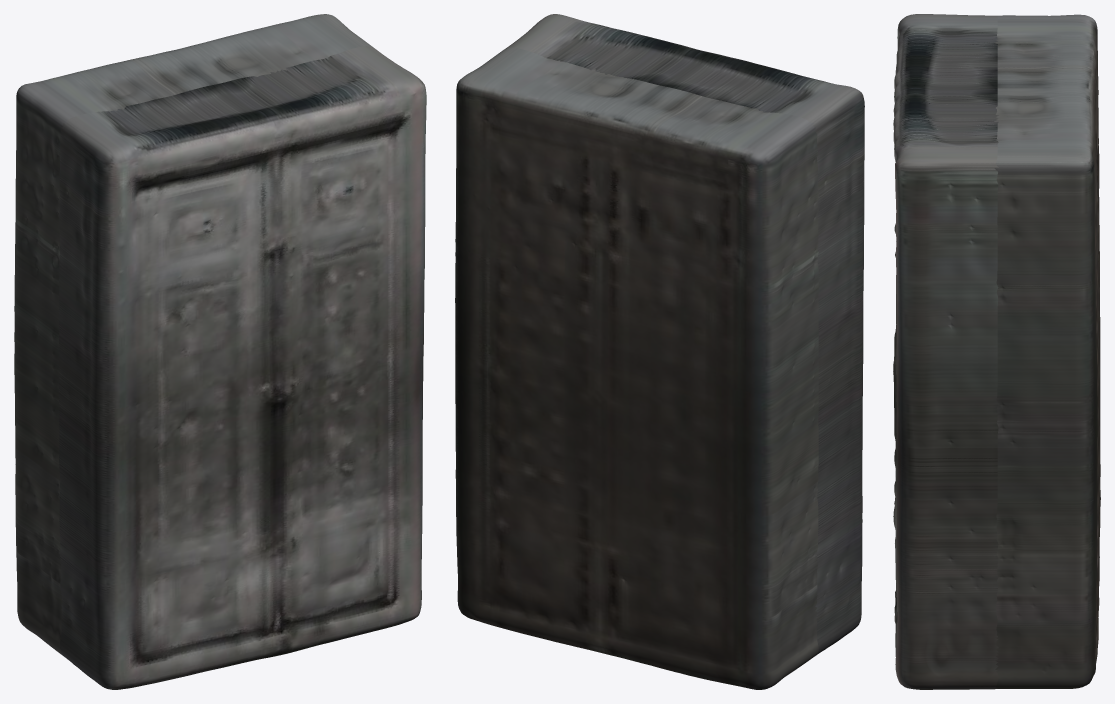
File: kfl-2287.glb
The picture shows the model from 3 angles, left to right: view 1: azimuth 30°, elevation 25°; view 2: azimuth 150°, elevation 25°; view 3: azimuth 270°, elevation 25°; orthographic projection.
Visible parts, largest first — view 1: geometry_0; view 2: geometry_0; view 3: geometry_0.
Part boxes in pixels (bbox=[...]): geometry_0: bbox=[14, 14, 426, 689]; geometry_0: bbox=[455, 14, 864, 689]; geometry_0: bbox=[893, 14, 1100, 689].
Bounding box in the file's own units: 0.6248 × 0.9991 × 0.3506.
1 material, 1 textured.
